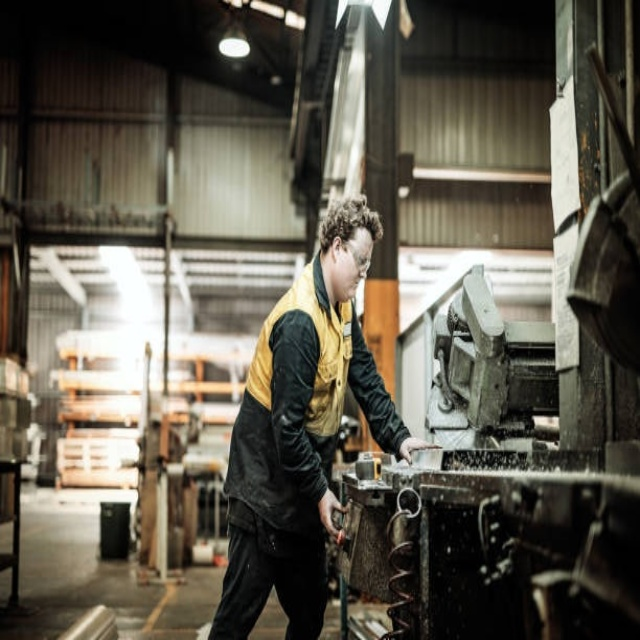Gafas: (345, 242, 373, 275)
Sin_guantes: (318, 490, 350, 537), (398, 436, 435, 464)
Sin_mascara: (340, 275, 362, 300)
